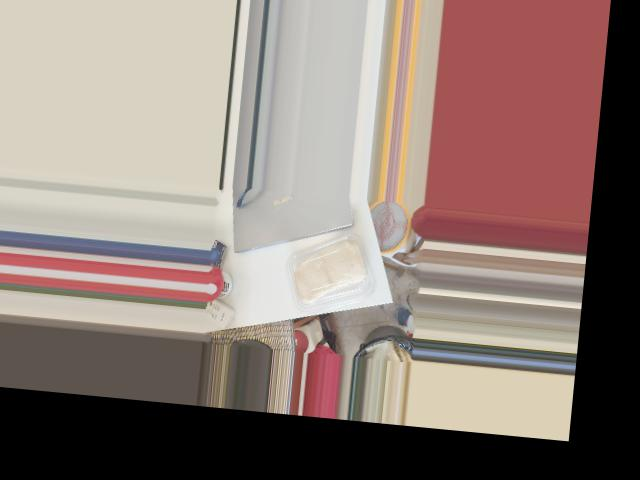cheese: (278, 226, 386, 319)
